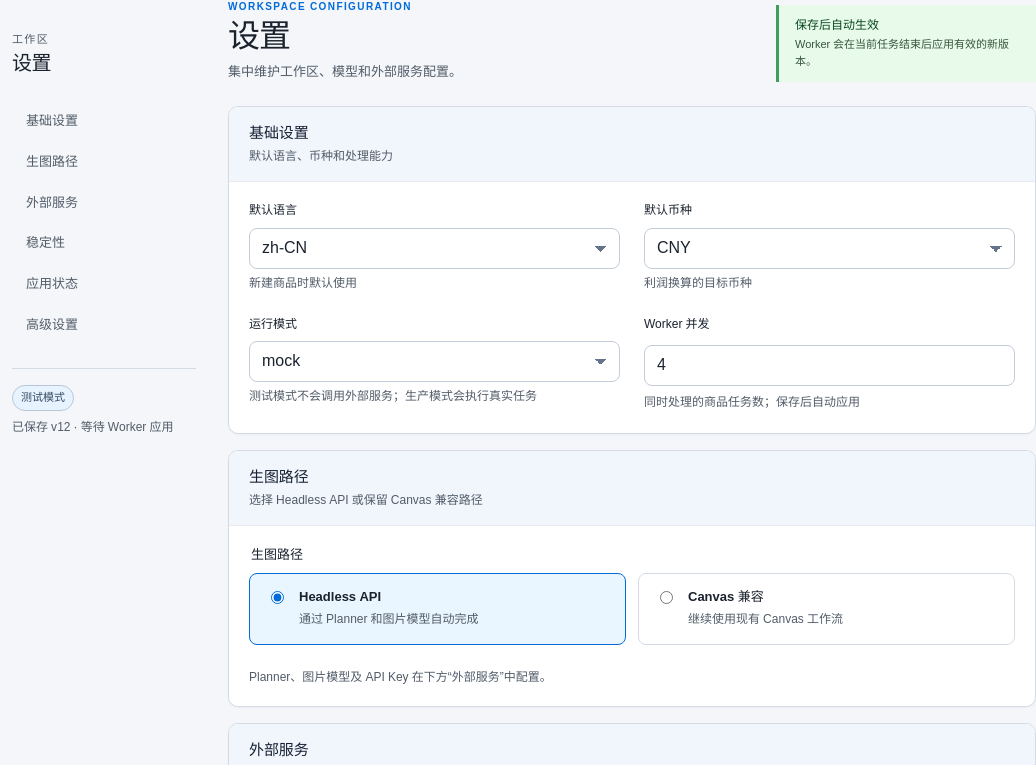
SettingsWorkspace › polls the saved version until Worker applies it without overwriting a newer local draft
Select "th-TH" in the dropdown labelled "默认语言" at (434, 248), box [249,228,620,269]
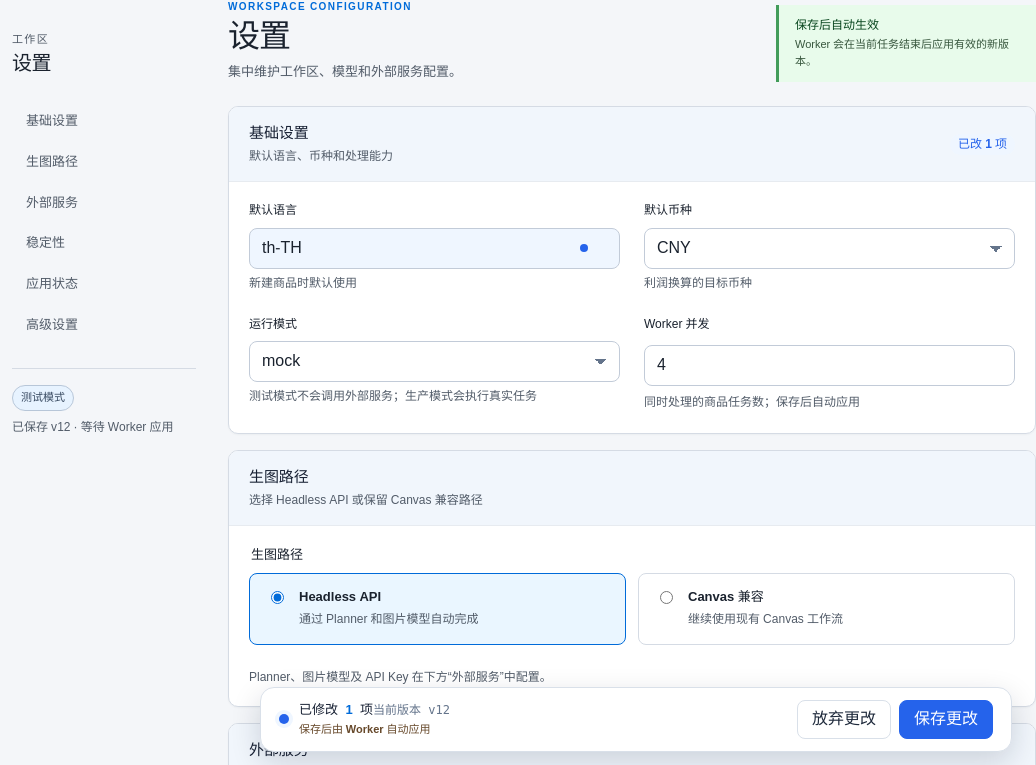
Click the button "保存更改".
click(946, 719)  # box [899,700,993,739]
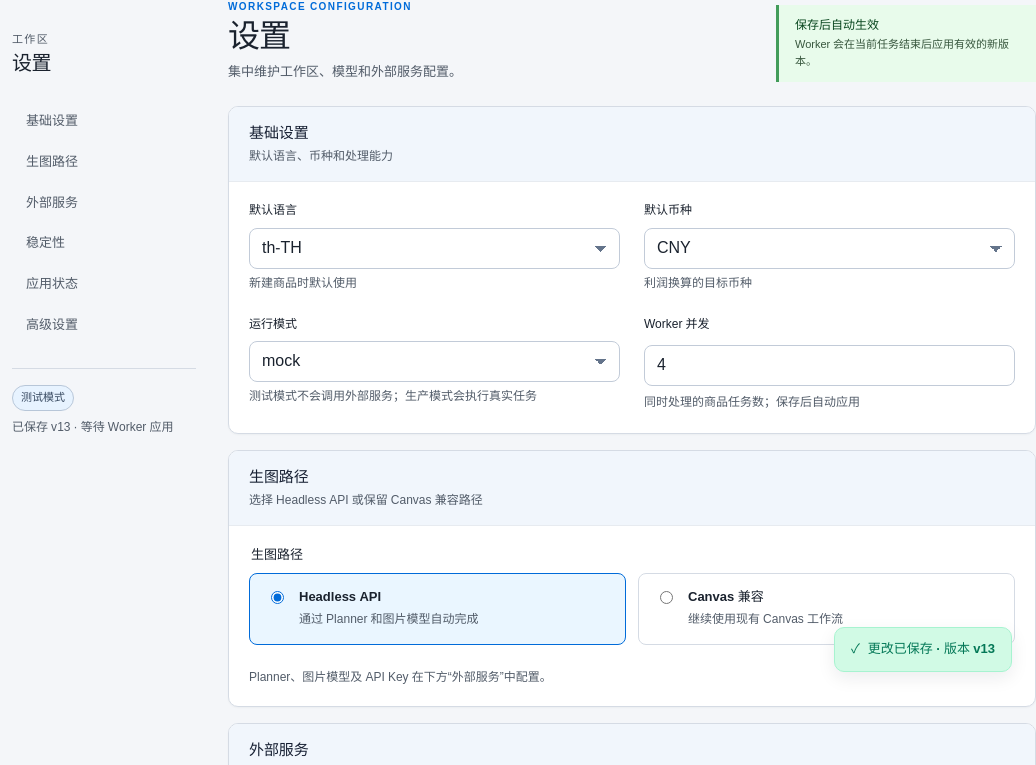
Select "THB" in the dropdown labelled "默认币种" at (830, 248), box [644,228,1015,269]
(page scrolled)
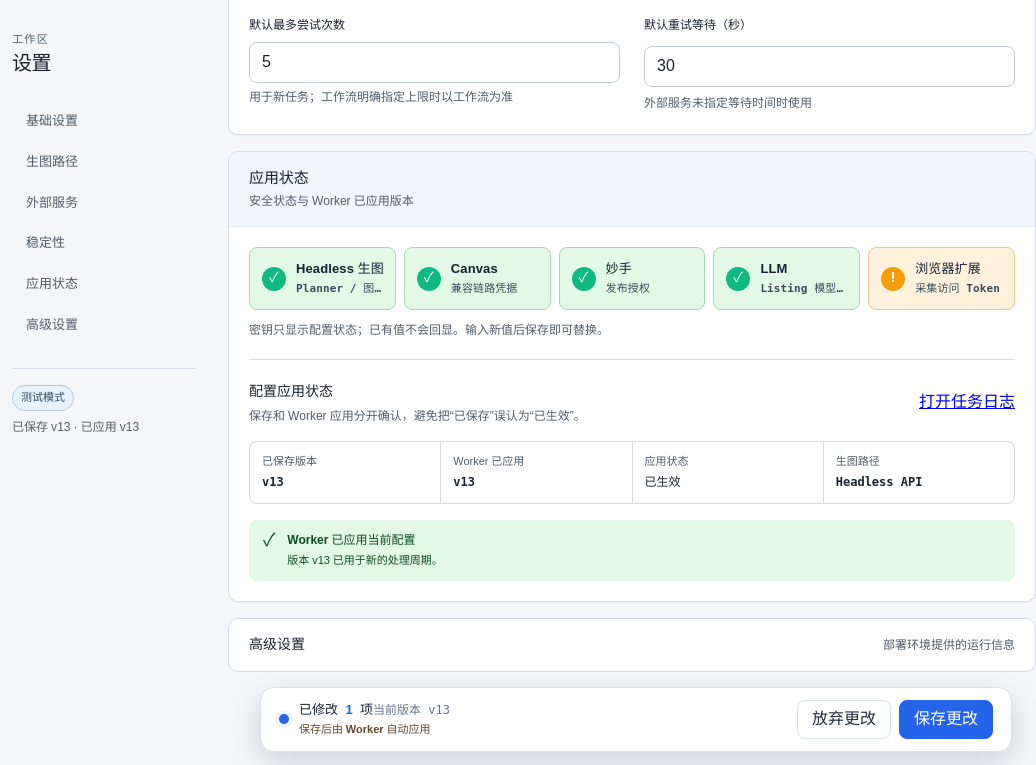
Check: the text "Worker 已应用当前配置" is shown, box [287,531,416,549]
